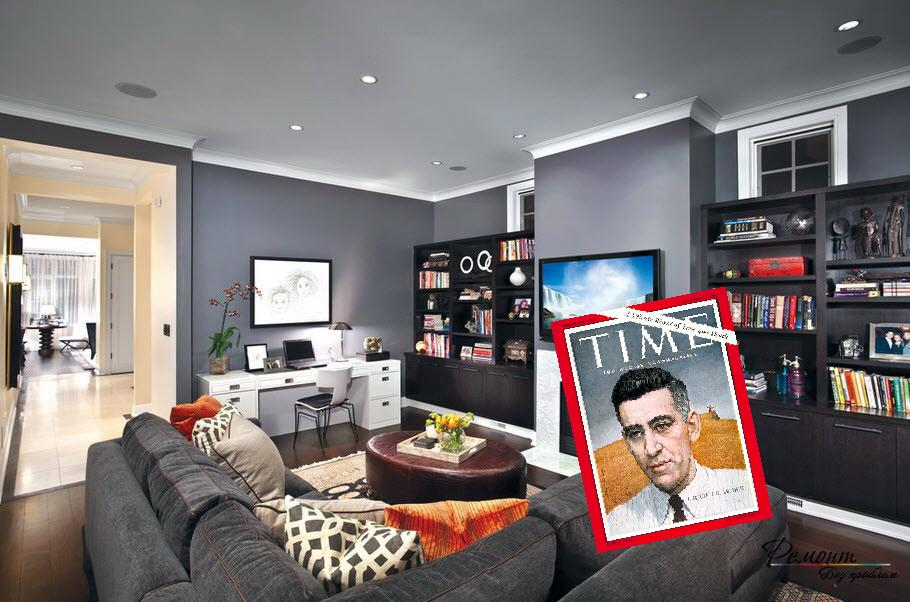times: (549, 285, 773, 553)
